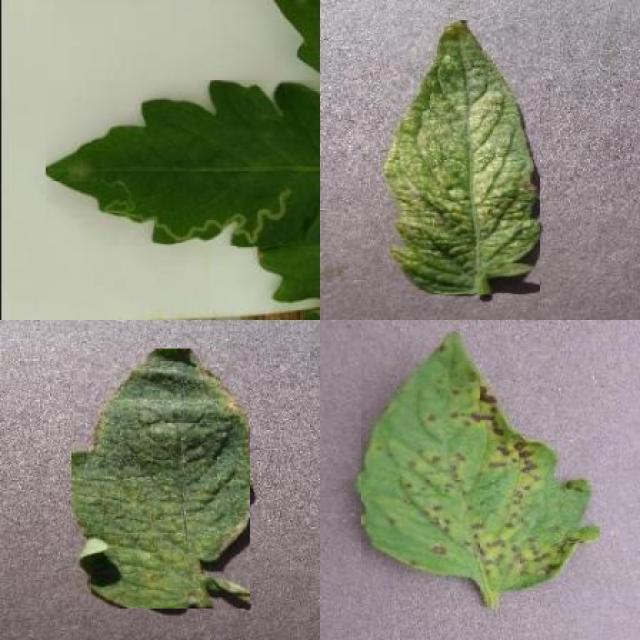Leaf Miner: (46, 81, 320, 246)
Septoria: (360, 332, 600, 591)
Spider Mites: (71, 348, 250, 608), (383, 20, 540, 294)
